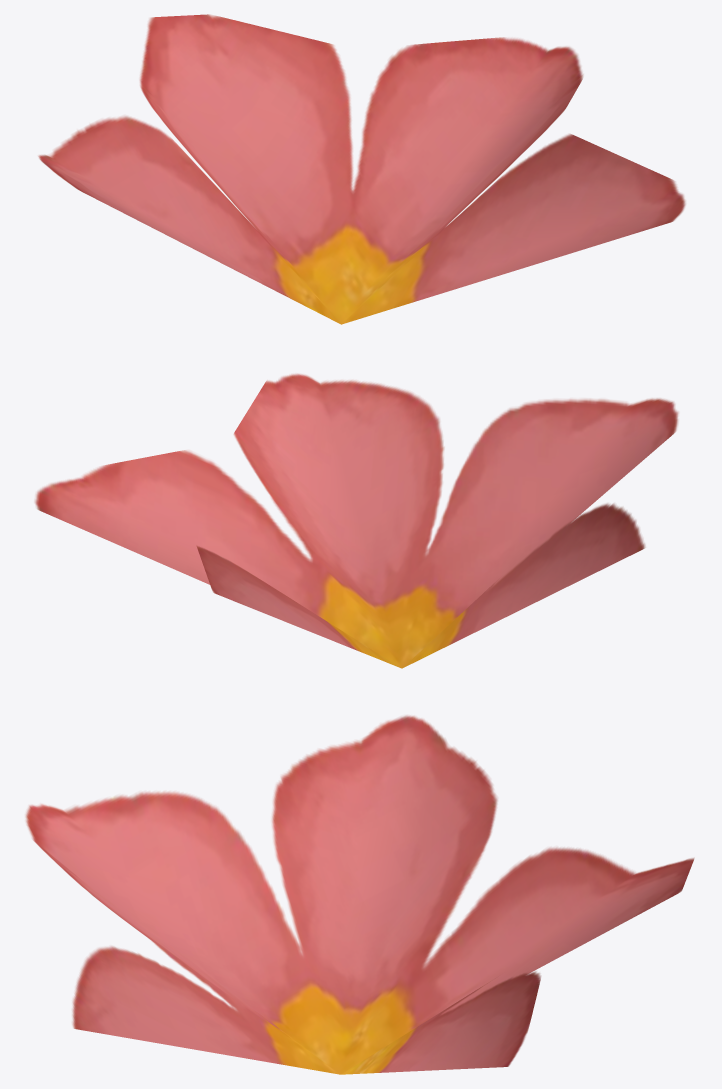
The model's file is prop_snm_flower_petal_5.glb.
3 renders of one model, top to bottom at view 1: azimuth 30°, elevation 25°; view 2: azimuth 150°, elevation 25°; view 3: azimuth 270°, elevation 25°, orthographic. The views are drawn at different scales.
Parts seen in each view (by area): view 1: Petal_5; view 2: Petal_5; view 3: Petal_5.
Part boxes in pixels (x1,y1,x2,y2): Petal_5: (38, 14, 685, 324); Petal_5: (34, 373, 678, 668); Petal_5: (25, 715, 694, 1074).
Bounding box in the file's own units: 0.834 × 0.2888 × 0.7952.
1 material, 1 textured.
